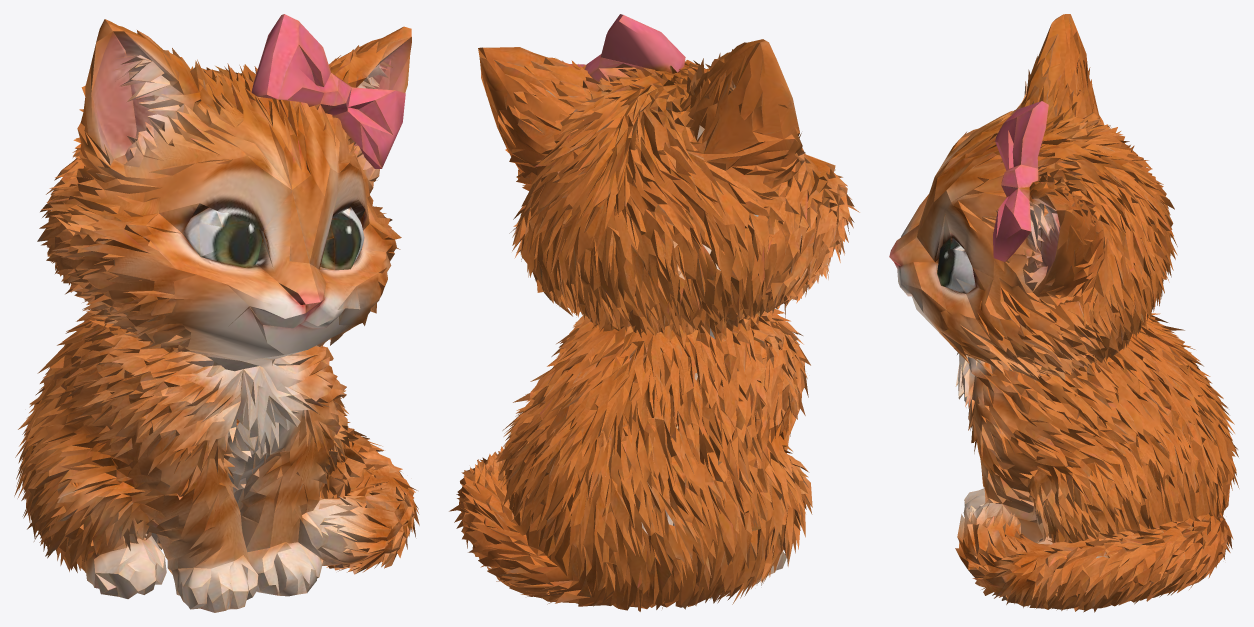
Rendered from pip.glb.
The picture shows the model from 3 angles, left to right: view 1: azimuth 30°, elevation 25°; view 2: azimuth 150°, elevation 25°; view 3: azimuth 270°, elevation 25°; orthographic projection. The views are drawn at different scales.
Bounding box in the file's own units: 1.32 × 1.91 × 1.25.
1 material, 1 textured.
